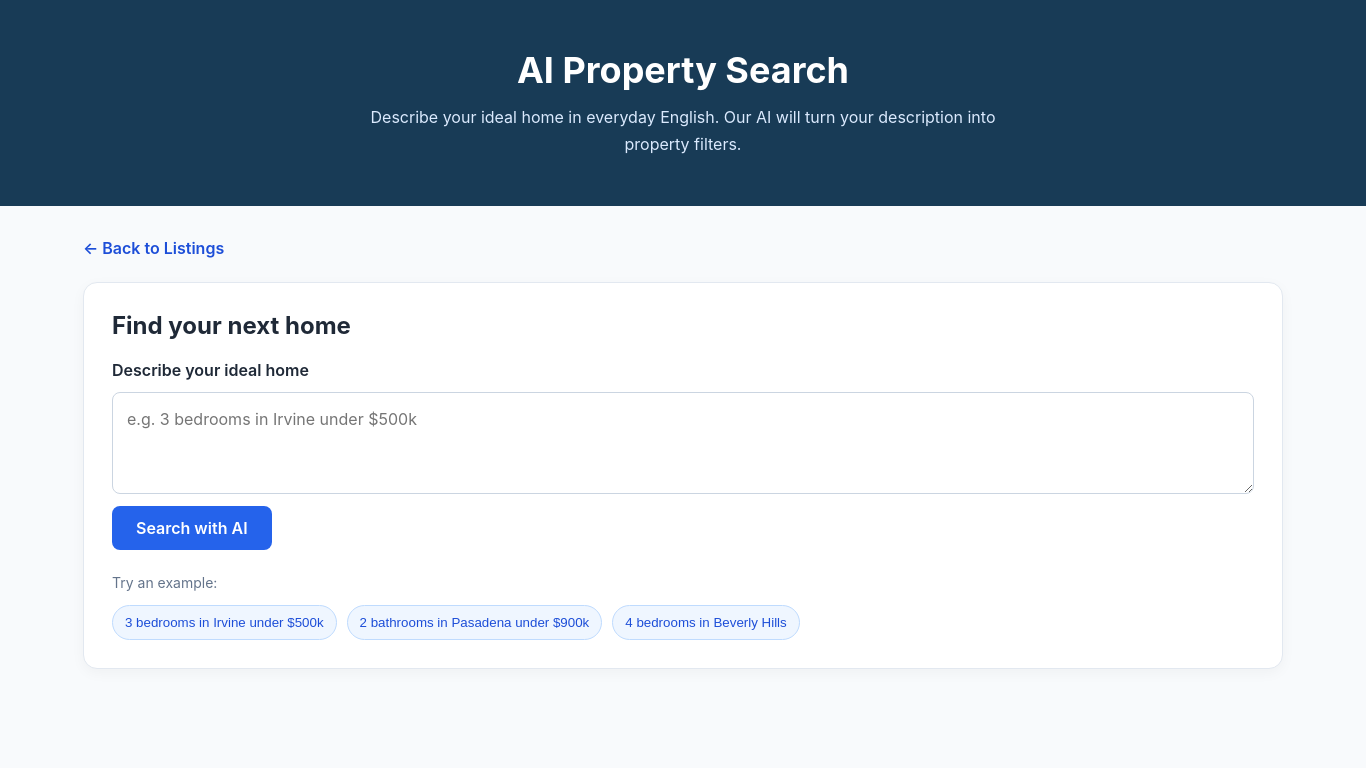
NaturalSearchPage › handles vague AI queries
The width and height of the screenshot is (1366, 768).
Type "cheap houses with lots of space" into the text box labelled "Describe your ideal home" at (683, 443), box [112,392,1254,494]
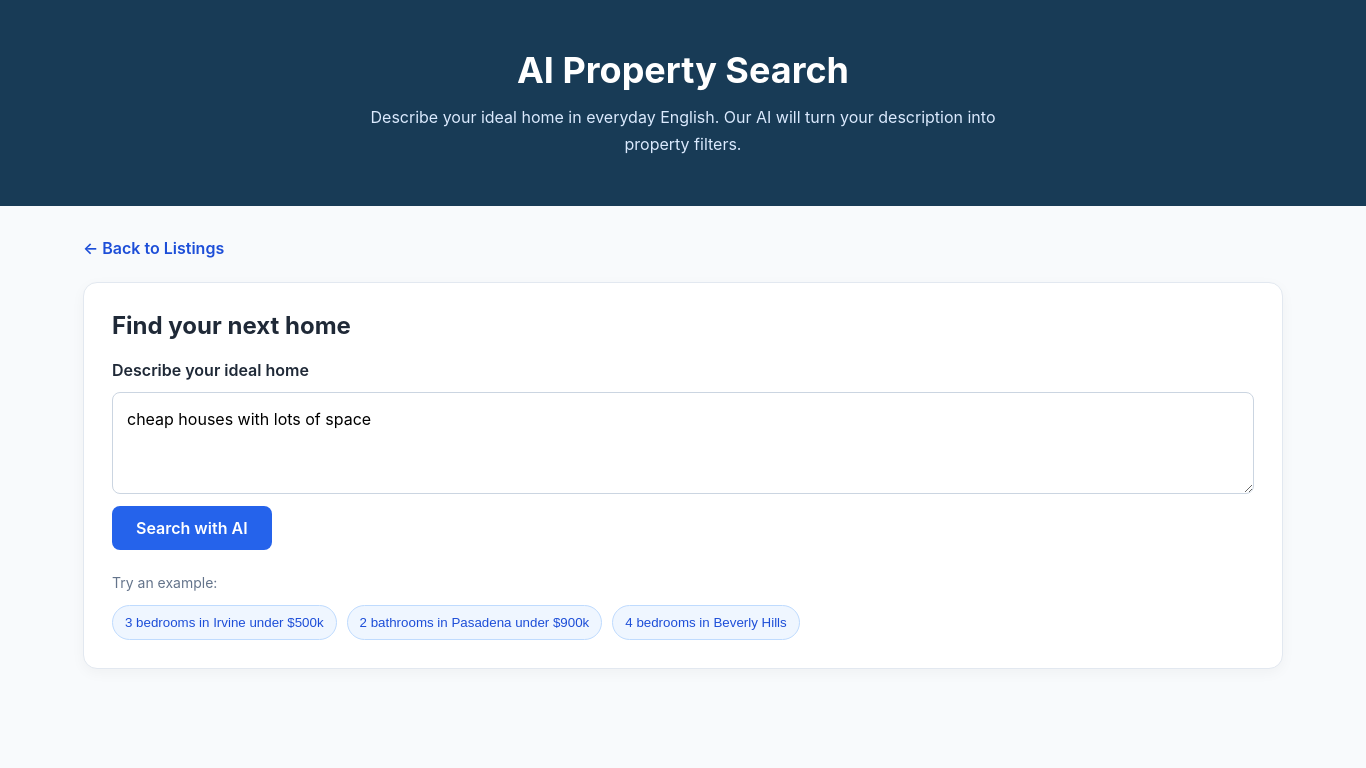
Click the button "Search with AI" at (192, 528), box [112,506,272,550]
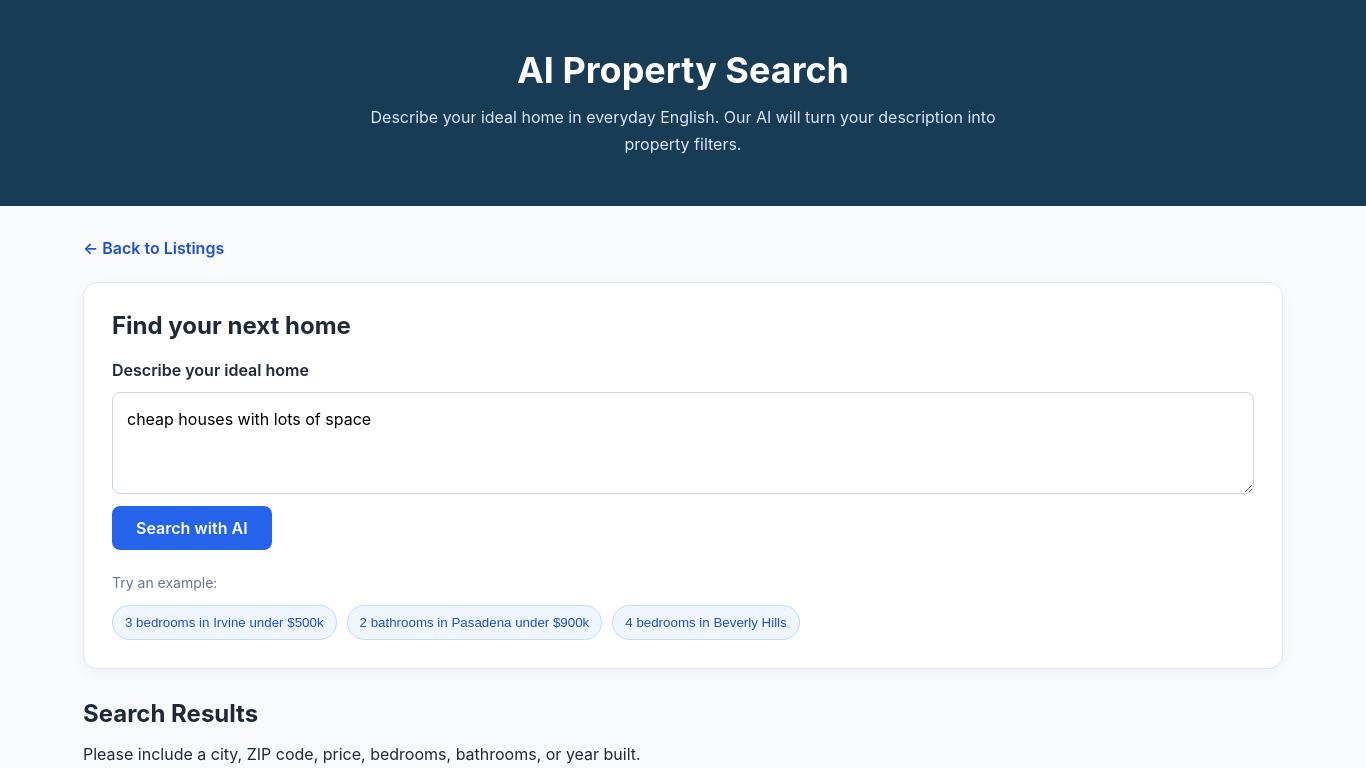
Now the text "Please include a city, ZIP code, price, bedrooms, bathrooms, or year built." is shown, box [83,744,641,764]
